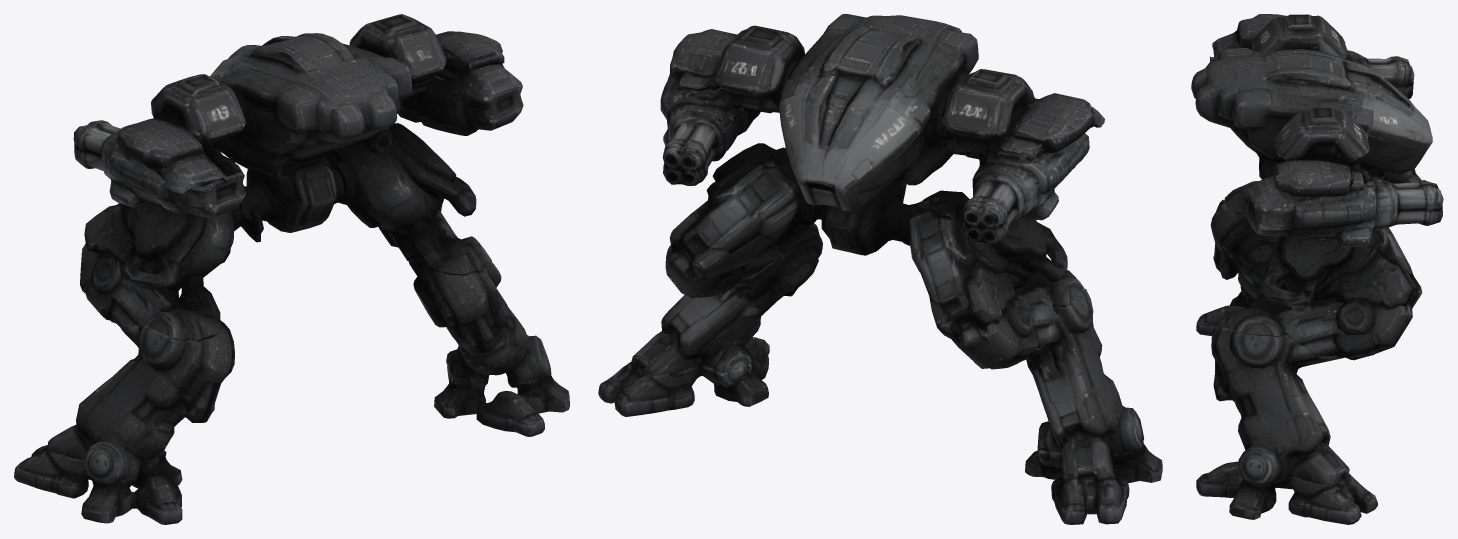
The model's file is hero_m5.glb.
3 renders of one model, left to right at view 1: azimuth 30°, elevation 25°; view 2: azimuth 150°, elevation 25°; view 3: azimuth 270°, elevation 25°, orthographic. The views are drawn at different scales.
Visible parts, largest first — view 1: hull, thigh_l, shin_l, thigh_r, shin_r, weapon_l, foot_l, weapon_r, pelvis, foot_r; view 2: hull, thigh_l, thigh_r, shin_l, shin_r, weapon_l, weapon_r, foot_r, foot_l, pelvis; view 3: hull, thigh_r, shin_r, weapon_r, foot_r, shin_l, weapon_l, thigh_l, foot_l.
Boxes of the visible parts, box(x1,y1,x2,y2) form: hull: box(117, 14, 504, 193); thigh_l: box(80, 201, 242, 340); shin_l: box(47, 320, 234, 483); thigh_r: box(324, 123, 491, 275); shin_r: box(409, 258, 551, 381); weapon_l: box(73, 120, 246, 217); foot_l: box(14, 445, 182, 524); weapon_r: box(398, 52, 523, 135); pelvis: box(239, 158, 344, 242); foot_r: box(434, 366, 569, 436); hull: box(670, 14, 1104, 211); thigh_l: box(909, 190, 1083, 368); thigh_r: box(665, 143, 818, 298); shin_l: box(990, 279, 1144, 478); shin_r: box(631, 223, 822, 375); weapon_l: box(931, 133, 1089, 243); weapon_r: box(660, 74, 788, 185); foot_r: box(598, 337, 769, 416); foot_l: box(1025, 442, 1162, 524); pelvis: box(813, 180, 917, 255); hull: box(1191, 14, 1432, 196); thigh_r: box(1225, 227, 1422, 357); shin_r: box(1211, 318, 1374, 485); weapon_r: box(1245, 160, 1443, 247); foot_r: box(1196, 461, 1377, 524); shin_l: box(1210, 199, 1303, 309); weapon_l: box(1210, 50, 1414, 98); thigh_l: box(1224, 168, 1421, 214); foot_l: box(1196, 291, 1255, 336).
Size of the model in its own units: 4.6 by 3.37 by 2.15.
Materials: 1 (1 with a texture image).
